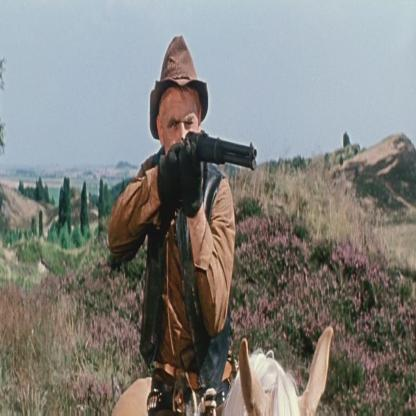gun: (189, 108, 260, 194)
